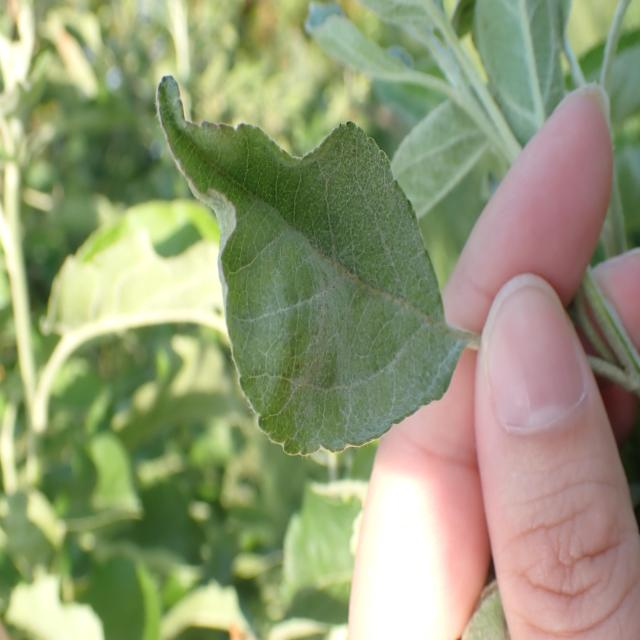Powdery_mildew: (128, 56, 468, 472)
